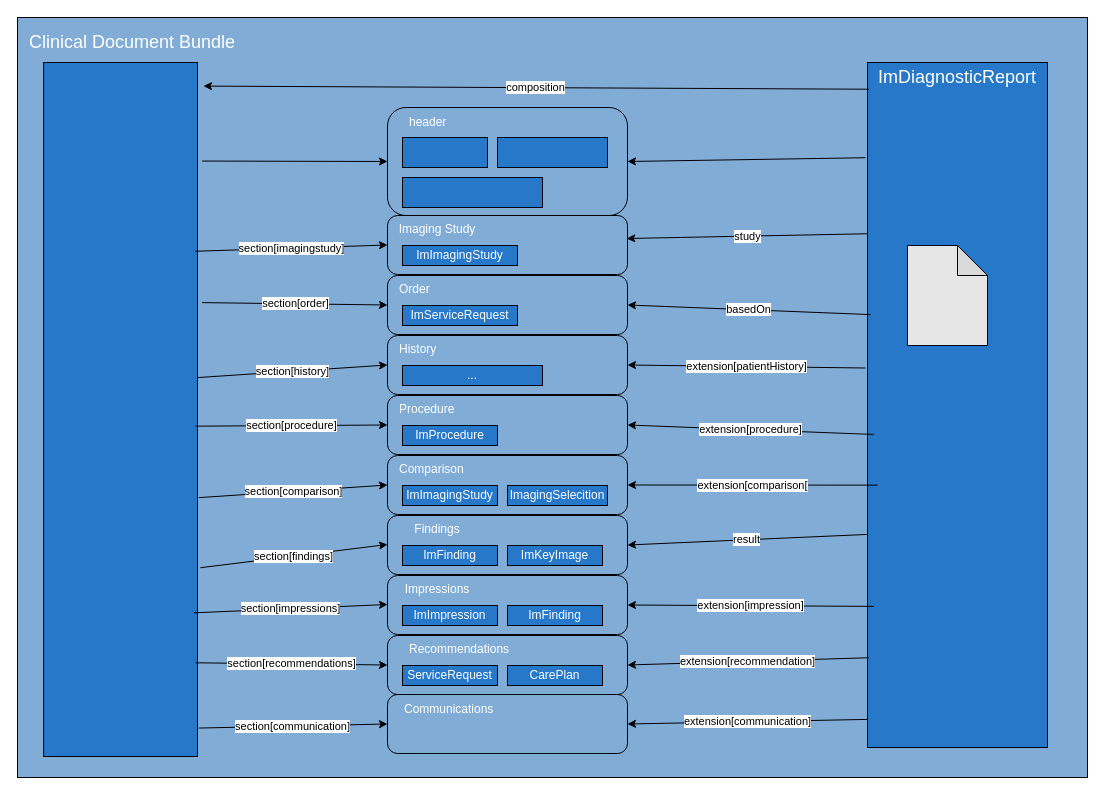
The diagram is 1105 pixels wide and 795 high, and some of its shapes have lost their labels. The shapes that lost their labels are listed below. From the top down, each one's box as (x1, y1, x2, y2) in pixels, then its label:
(402, 136, 488, 168): ImPatient
(496, 136, 608, 168): EuOrganization
(402, 176, 542, 208): EuPractitioner(Role)
(906, 244, 988, 346): Rendered Report
(43, 62, 198, 756): ImComposition
